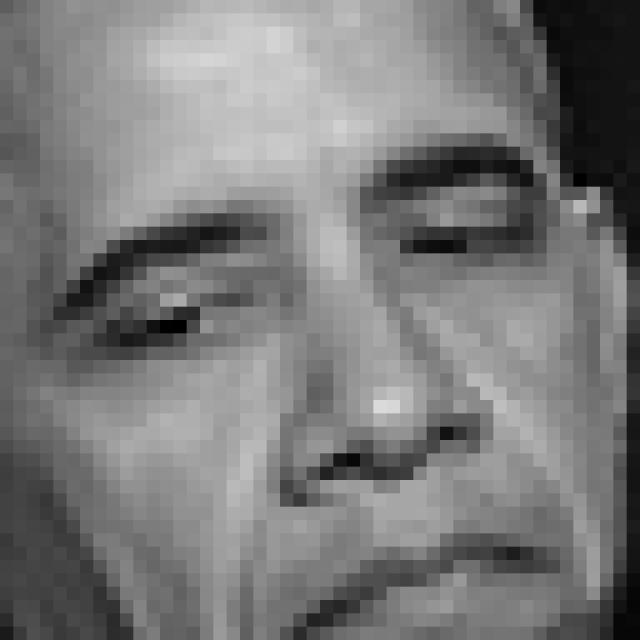disgust: (39, 125, 582, 640)
